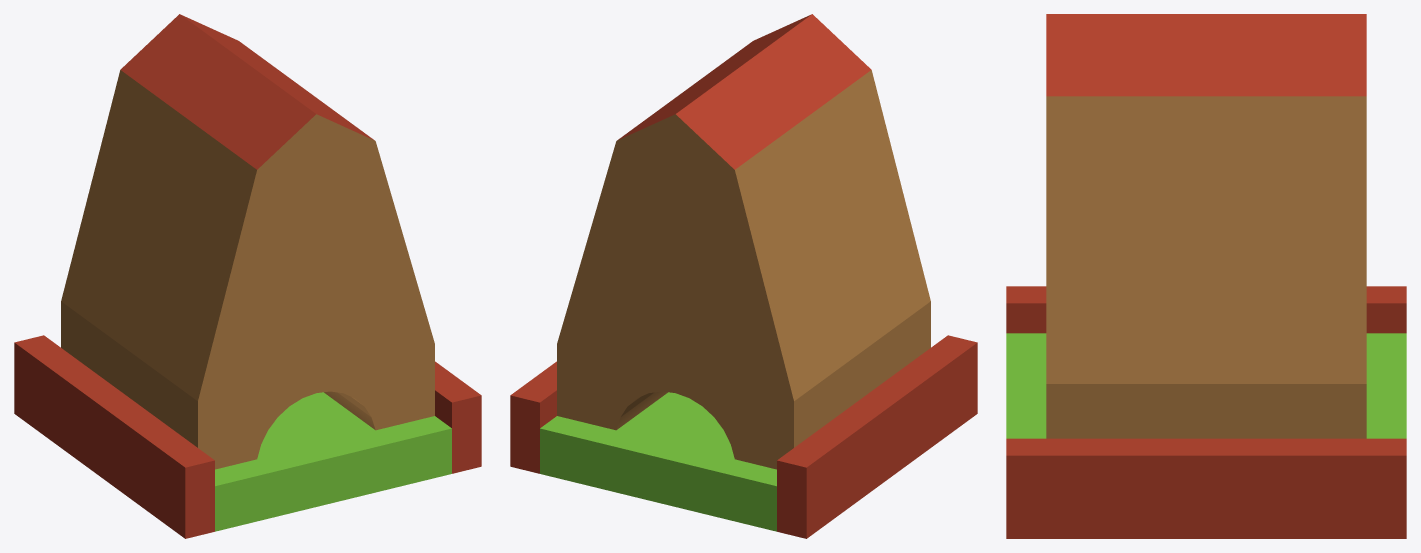
The model's file is Windmill.FBX.
3 views of the same model, side by side, from view 1: azimuth 30°, elevation 25°; view 2: azimuth 150°, elevation 25°; view 3: azimuth 270°, elevation 25° (orthographic). The views are drawn at different scales.
Parts seen in each view (by area): view 1: Obstacle, Walls, Windmill_01; view 2: Obstacle, Walls, Windmill_01; view 3: Obstacle, Walls, Windmill_01.
Boxes of the visible parts, bbox=[...] form: Obstacle: bbox=[61, 14, 434, 469]; Walls: bbox=[14, 335, 481, 538]; Windmill_01: bbox=[215, 391, 451, 531]; Obstacle: bbox=[557, 14, 930, 469]; Walls: bbox=[510, 335, 977, 538]; Windmill_01: bbox=[540, 391, 776, 531]; Obstacle: bbox=[1046, 14, 1366, 438]; Walls: bbox=[1006, 286, 1406, 538]; Windmill_01: bbox=[1006, 333, 1406, 438].
Bounding box in the file's own units: 0.9999 × 0.9999 × 1.21.
